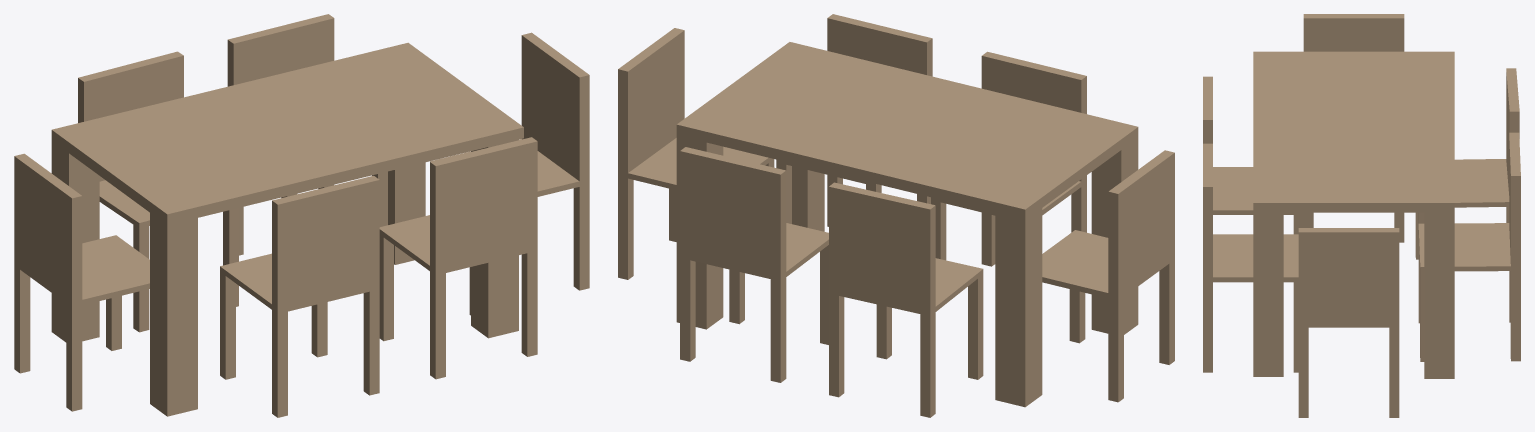
File: Magnificent Albar-Bigery (6).glb
3 renders of one model, left to right at view 1: azimuth 30°, elevation 25°; view 2: azimuth 150°, elevation 25°; view 3: azimuth 270°, elevation 25°, orthographic. The views are drawn at different scales.
Parts seen in each view (by area): view 1: Mesh_Mesh_head_geo.001_lambert2SG.001; view 2: Mesh_Mesh_head_geo.001_lambert2SG.001; view 3: Mesh_Mesh_head_geo.001_lambert2SG.001.
Part boxes in pixels (<box>): Mesh_Mesh_head_geo.001_lambert2SG.001: <box>14,14,589,417</box>; Mesh_Mesh_head_geo.001_lambert2SG.001: <box>618,14,1174,417</box>; Mesh_Mesh_head_geo.001_lambert2SG.001: <box>1203,14,1520,417</box>.
Size of the model in its own units: 0.0985 by 0.039 by 0.0606.
